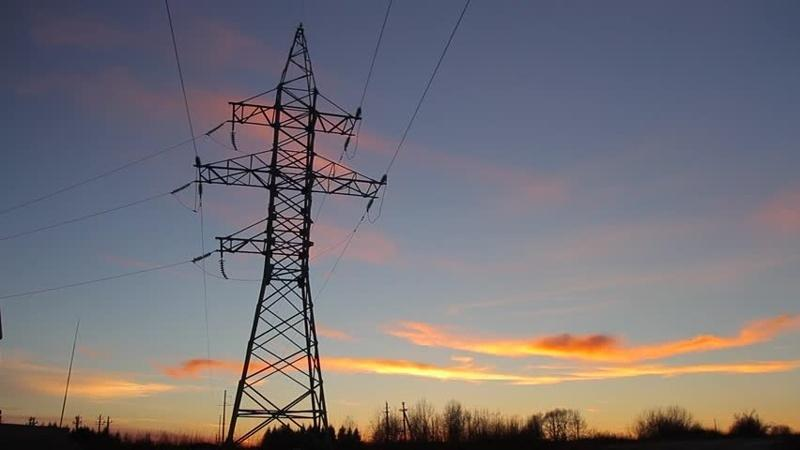power_tower: (188, 34, 371, 441)
